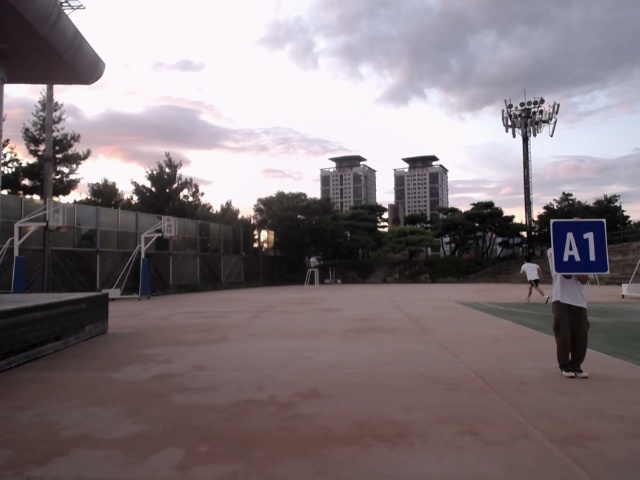delivery_a1: (551, 220, 608, 274)
